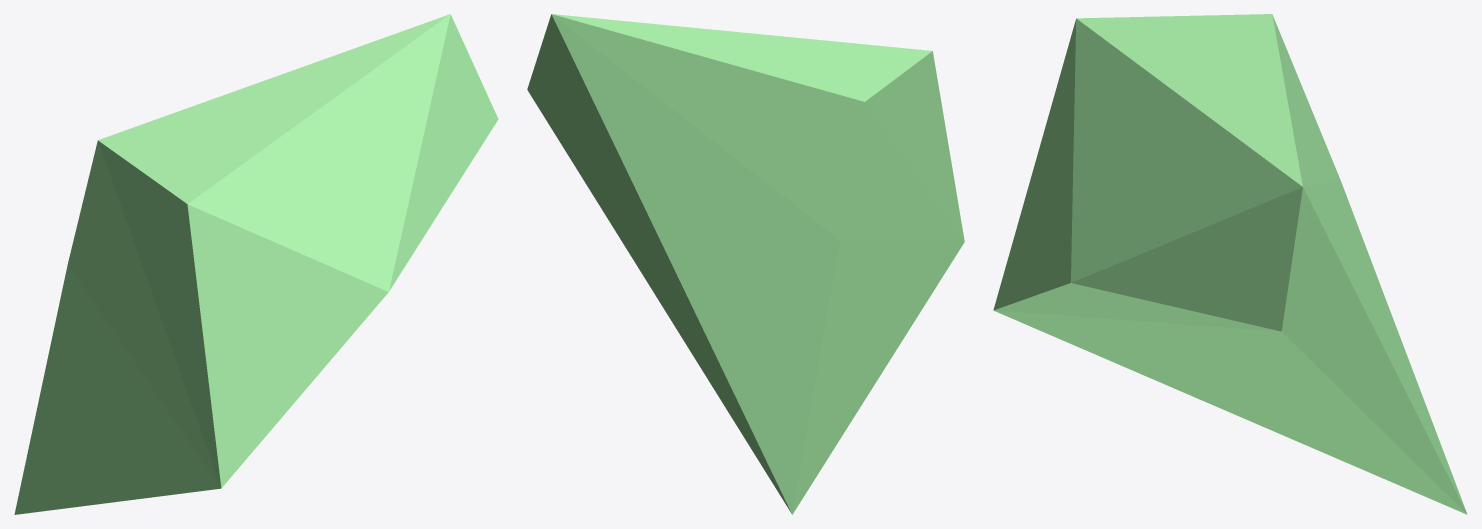
File: xarm7_with_gripper_LR4_R560_link7_respondable_coll_35.dae
The picture shows the model from 3 angles, left to right: view 1: azimuth 30°, elevation 25°; view 2: azimuth 150°, elevation 25°; view 3: azimuth 270°, elevation 25°; orthographic projection. The views are drawn at different scales.
Parts seen in each view (by area): view 1: Node_000001B88F9E0D70; view 2: Node_000001B88F9E0D70; view 3: Node_000001B88F9E0D70.
Part boxes in pixels (x1,y1,x2,y2): Node_000001B88F9E0D70: (14, 14, 498, 514); Node_000001B88F9E0D70: (527, 14, 964, 514); Node_000001B88F9E0D70: (993, 14, 1467, 514).
Size of the model in its own units: 0.00999 by 0.011 by 0.00888.
